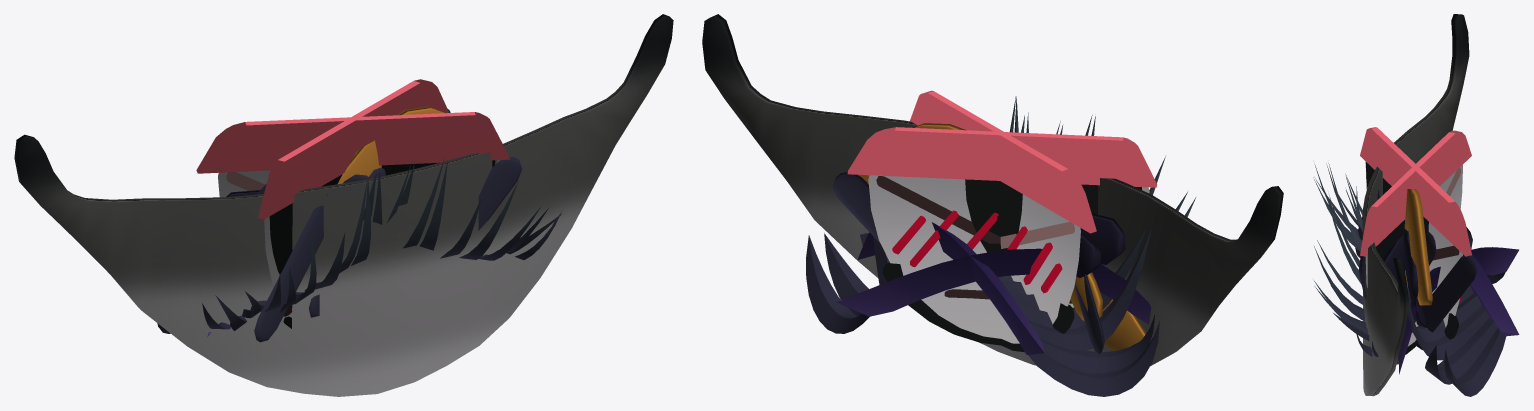
Rendered from ObbyGame_Characters_faceObjs_.fbx.
3 renders of one model, left to right at view 1: azimuth 30°, elevation 25°; view 2: azimuth 150°, elevation 25°; view 3: azimuth 270°, elevation 25°, orthographic. The views are drawn at different scales.
Parts seen in each view (by area): view 1: ObbyGame_Characters_faceObj_004, ObbyGame_Characters_faceObj_008_right, ObbyGame_Characters_faceObj_008_left, ObbyGame_Characters_faceObj_000_right, ObbyGame_Characters_faceObj_000_left, ObbyGame_Characters_faceObj_001_left, ObbyGame_Characters_faceObj_001_right, ObbyGame_Characters_faceObj_002_left; view 2: ObbyGame_Characters_faceObj_004, ObbyGame_Characters_faceObj_008_left, ObbyGame_Characters_faceObj_000_right, ObbyGame_Characters_faceObj_008_right, ObbyGame_Characters_faceObj_000_left, ObbyGame_Characters_faceObj_003_left, ObbyGame_Characters_faceObj_001_left, ObbyGame_Characters_faceObj_007_left, ObbyGame_Characters_faceObj_005_left, ObbyGame_Characters_faceObj_002_left, ObbyGame_Characters_faceObj_001_right, ObbyGame_Characters_faceObj_007_right (+3 smaller); view 3: ObbyGame_Characters_faceObj_004, ObbyGame_Characters_faceObj_000_left, ObbyGame_Characters_faceObj_008_left, ObbyGame_Characters_faceObj_008_right, ObbyGame_Characters_faceObj_000_right, ObbyGame_Characters_faceObj_001_left, ObbyGame_Characters_faceObj_002_left, ObbyGame_Characters_faceObj_005_left, ObbyGame_Characters_faceObj_005_right, ObbyGame_Characters_faceObj_001_right, ObbyGame_Characters_faceObj_003_left.
Boxes of the visible parts, left/top/right/bottom form: ObbyGame_Characters_faceObj_004: left=14, top=14, right=673, bottom=396; ObbyGame_Characters_faceObj_008_right: left=196, top=112, right=509, bottom=197; ObbyGame_Characters_faceObj_008_left: left=258, top=79, right=448, bottom=328; ObbyGame_Characters_faceObj_000_right: left=157, top=158, right=562, bottom=333; ObbyGame_Characters_faceObj_000_left: left=202, top=162, right=436, bottom=337; ObbyGame_Characters_faceObj_001_left: left=254, top=109, right=450, bottom=342; ObbyGame_Characters_faceObj_001_right: left=257, top=157, right=522, bottom=230; ObbyGame_Characters_faceObj_002_left: left=338, top=106, right=446, bottom=183; ObbyGame_Characters_faceObj_004: left=702, top=14, right=1283, bottom=365; ObbyGame_Characters_faceObj_008_left: left=847, top=127, right=1157, bottom=345; ObbyGame_Characters_faceObj_000_right: left=857, top=96, right=1159, bottom=396; ObbyGame_Characters_faceObj_008_right: left=910, top=90, right=1096, bottom=352; ObbyGame_Characters_faceObj_000_left: left=806, top=112, right=1195, bottom=333; ObbyGame_Characters_faceObj_003_left: left=876, top=176, right=1072, bottom=303; ObbyGame_Characters_faceObj_001_left: left=832, top=172, right=880, bottom=243; ObbyGame_Characters_faceObj_007_left: left=892, top=210, right=998, bottom=267; ObbyGame_Characters_faceObj_005_left: left=1080, top=213, right=1125, bottom=264; ObbyGame_Characters_faceObj_002_left: left=857, top=123, right=1150, bottom=351; ObbyGame_Characters_faceObj_001_right: left=1068, top=274, right=1104, bottom=353; ObbyGame_Characters_faceObj_007_right: left=1007, top=226, right=1062, bottom=293; ObbyGame_Characters_faceObj_004: left=1362, top=14, right=1469, bottom=396; ObbyGame_Characters_faceObj_000_left: left=1313, top=163, right=1519, bottom=396; ObbyGame_Characters_faceObj_008_left: left=1360, top=127, right=1471, bottom=349; ObbyGame_Characters_faceObj_008_right: left=1360, top=130, right=1471, bottom=354; ObbyGame_Characters_faceObj_000_right: left=1314, top=174, right=1518, bottom=374; ObbyGame_Characters_faceObj_001_left: left=1355, top=189, right=1476, bottom=332; ObbyGame_Characters_faceObj_002_left: left=1404, top=189, right=1432, bottom=305; ObbyGame_Characters_faceObj_005_left: left=1403, top=231, right=1427, bottom=326; ObbyGame_Characters_faceObj_005_right: left=1382, top=235, right=1405, bottom=283; ObbyGame_Characters_faceObj_001_right: left=1359, top=227, right=1472, bottom=298; ObbyGame_Characters_faceObj_003_left: left=1433, top=245, right=1459, bottom=260.
Size of the model in its own units: 87.9 by 39.27 by 30.76.
Materials: 2 (2 with a texture image).
